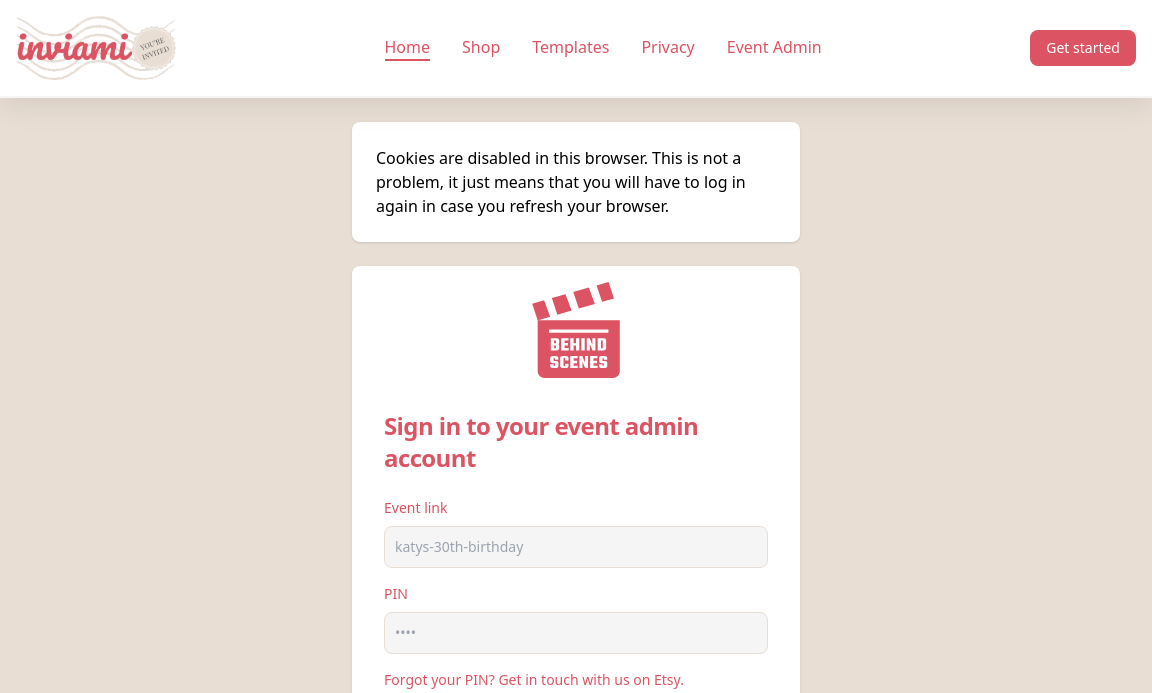
Test: EventAdmin page tests › should show error message when event link is empty and password is provided
Type "1234" into the password field labelled "PIN" at (576, 633), box x1=384 y1=612 x2=768 y2=654
(page scrolled)
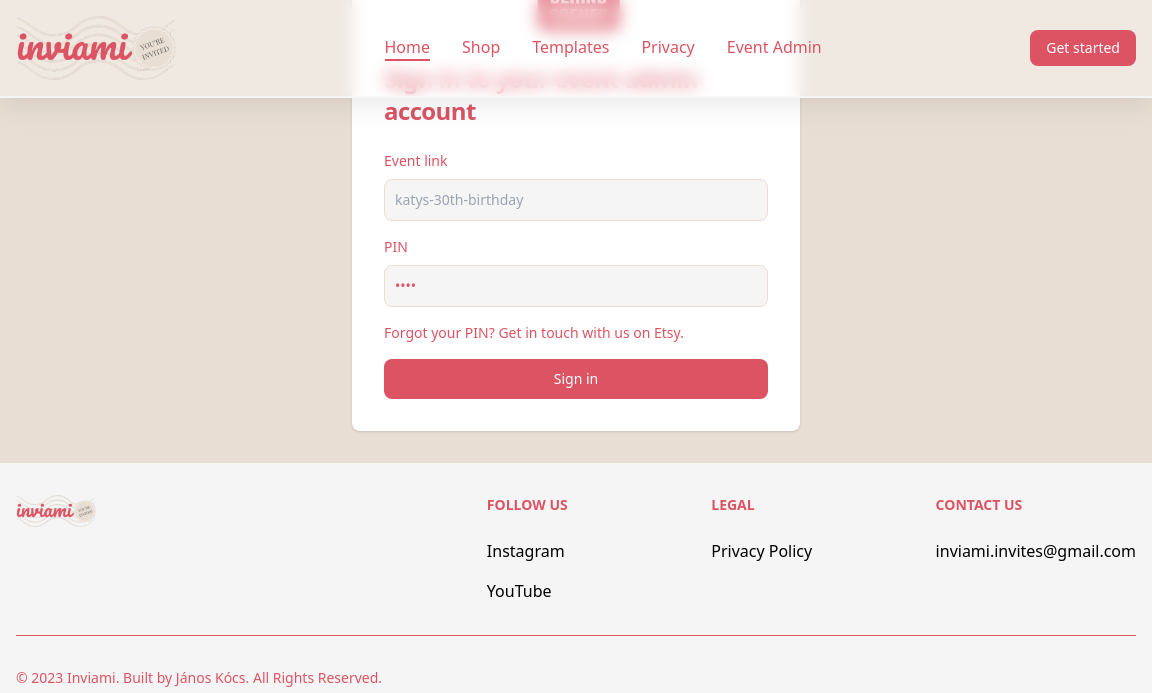
Submit the form from the button "Sign in", box x1=384 y1=359 x2=768 y2=399
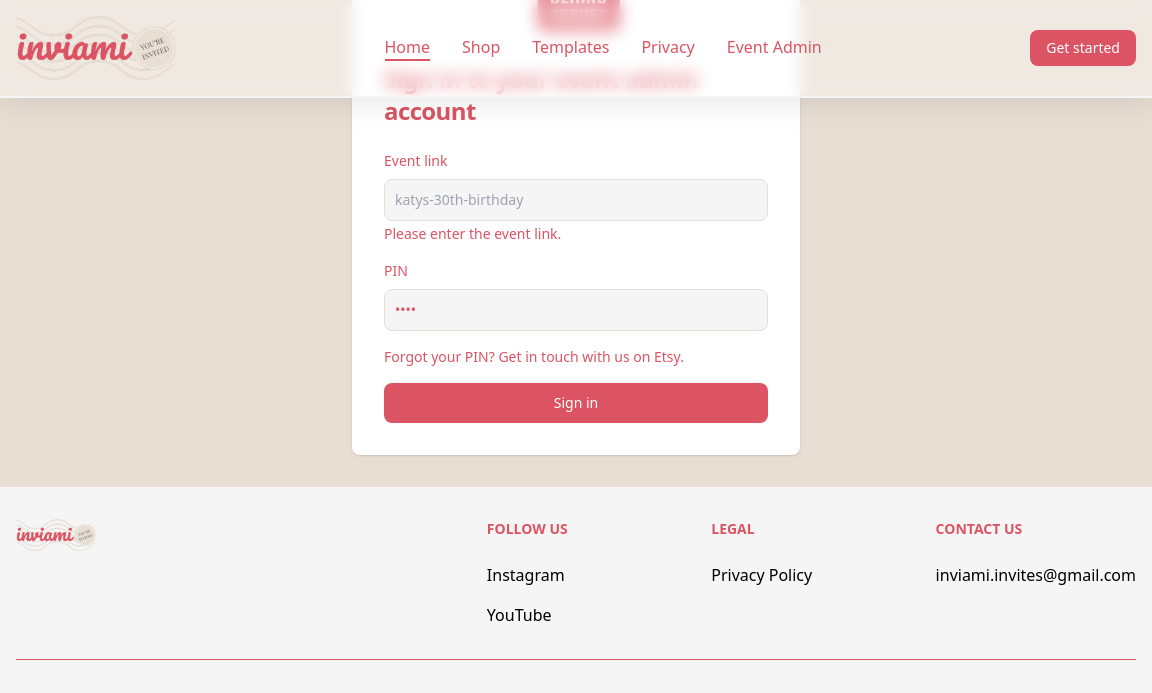
Check: the text "Please enter the event link." is shown, box x1=384 y1=224 x2=561 y2=243
